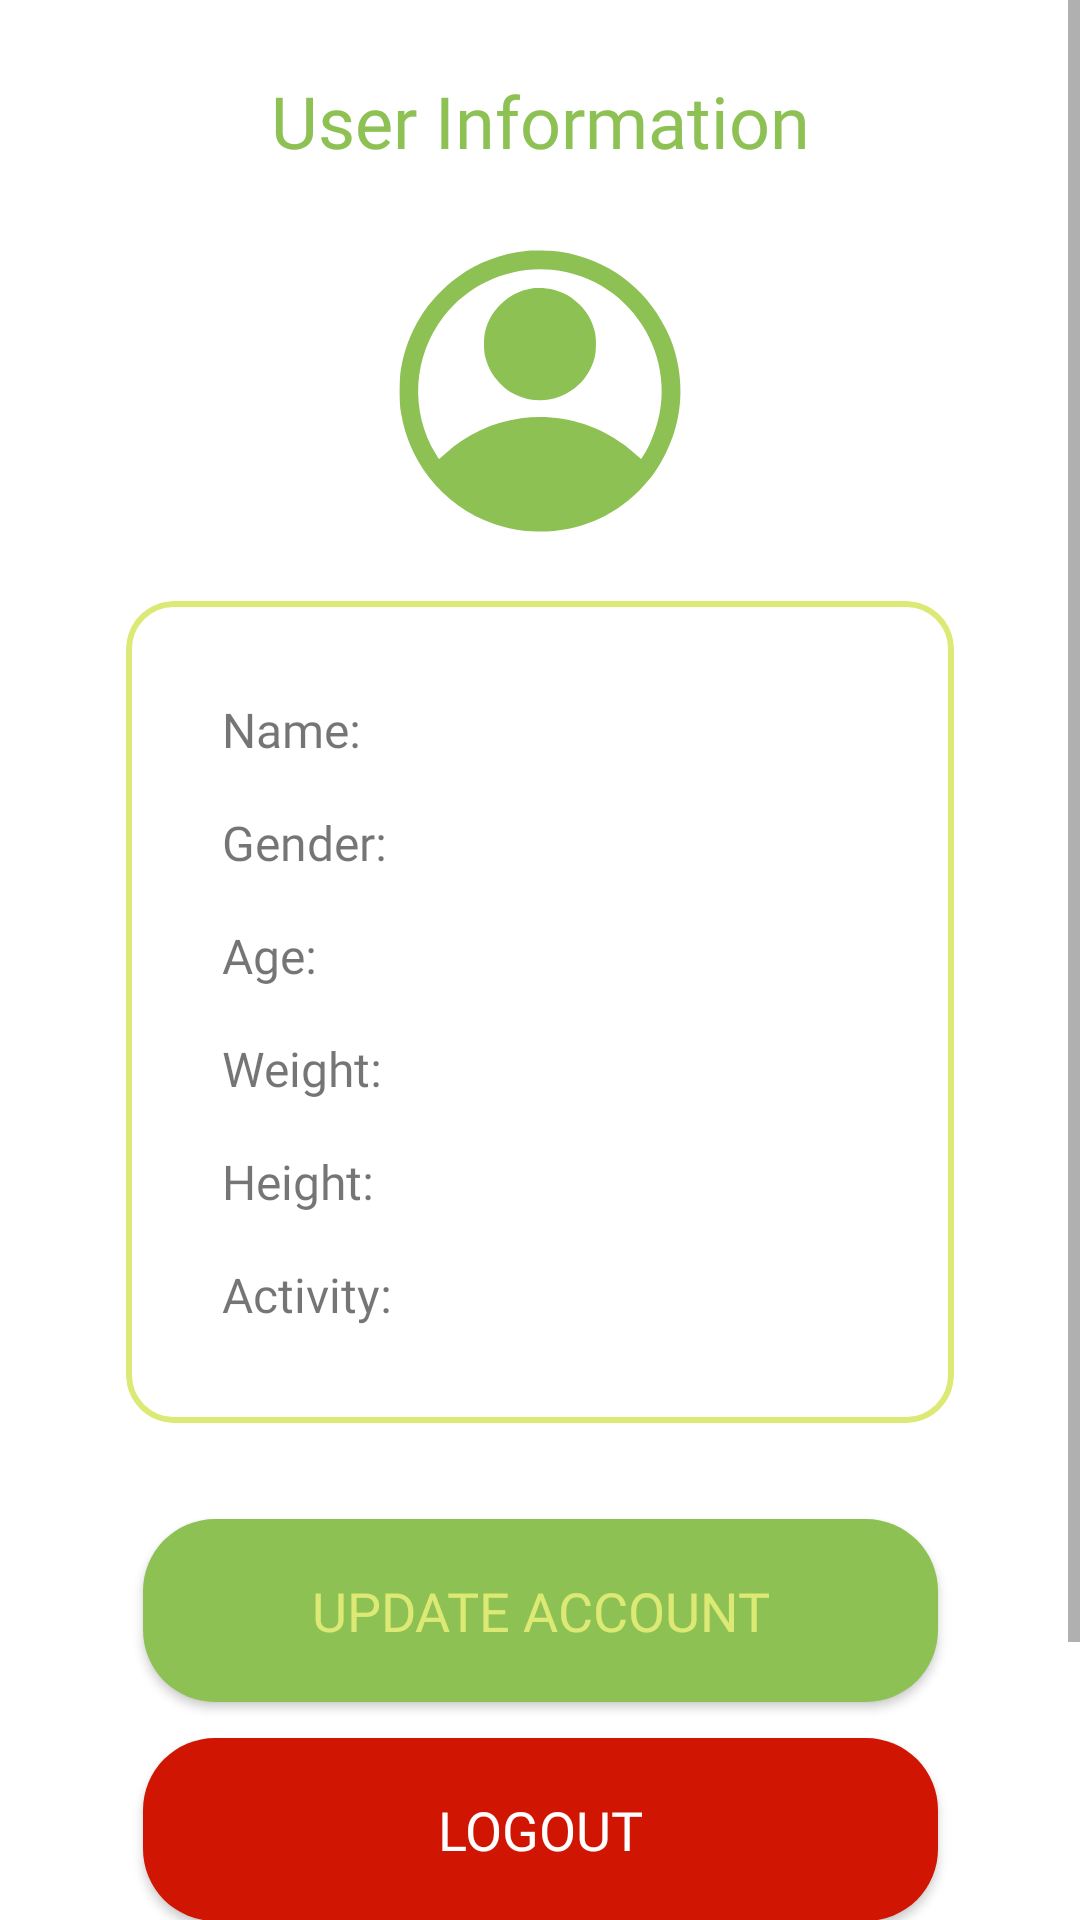

Point at icon controls on the screen. Image size 1080px×1920px, points as [x,y].
account: [540,391]
